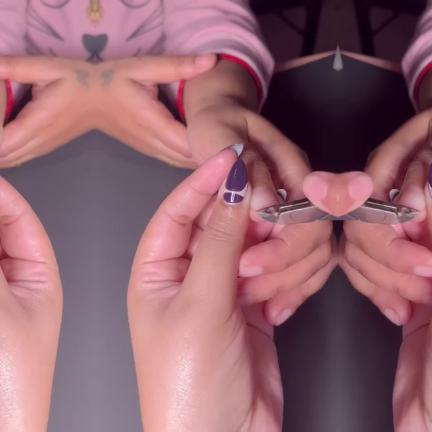Nail: (221, 159, 247, 205), (303, 175, 327, 199), (347, 175, 371, 199), (275, 309, 291, 326), (383, 309, 399, 326), (236, 266, 260, 277), (235, 294, 252, 308), (427, 160, 432, 201), (414, 266, 432, 277), (422, 294, 432, 308)
